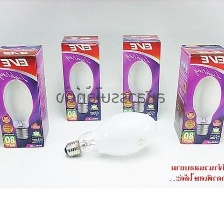carton: (170, 40, 223, 148), (0, 42, 51, 150), (59, 34, 103, 125), (118, 32, 162, 123)
light_bulb: (62, 110, 161, 160)
